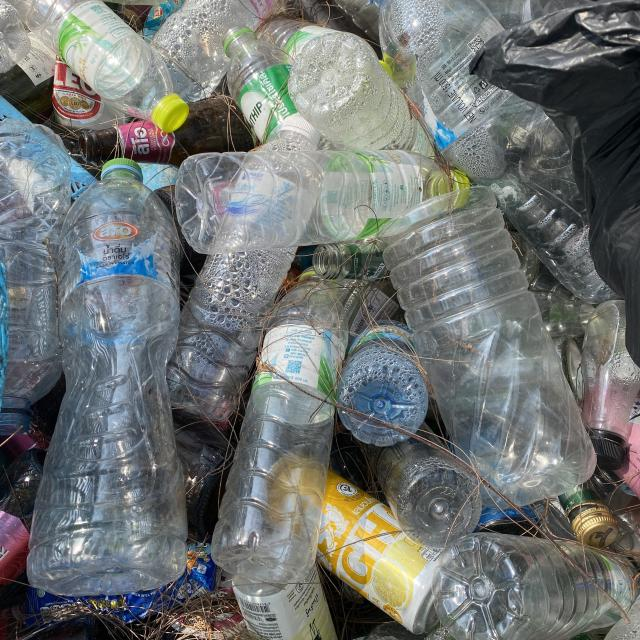Single-layer Plastic: (470, 0, 640, 365)
